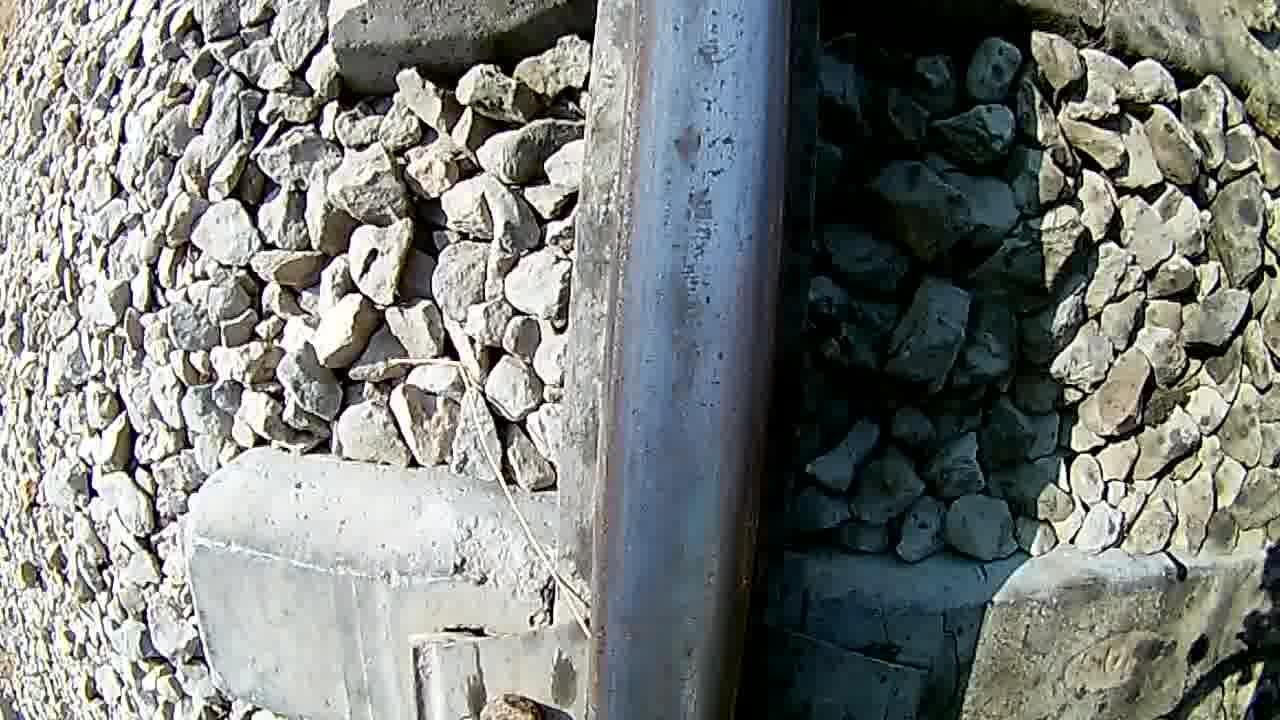crack: (596, 0, 793, 720)
